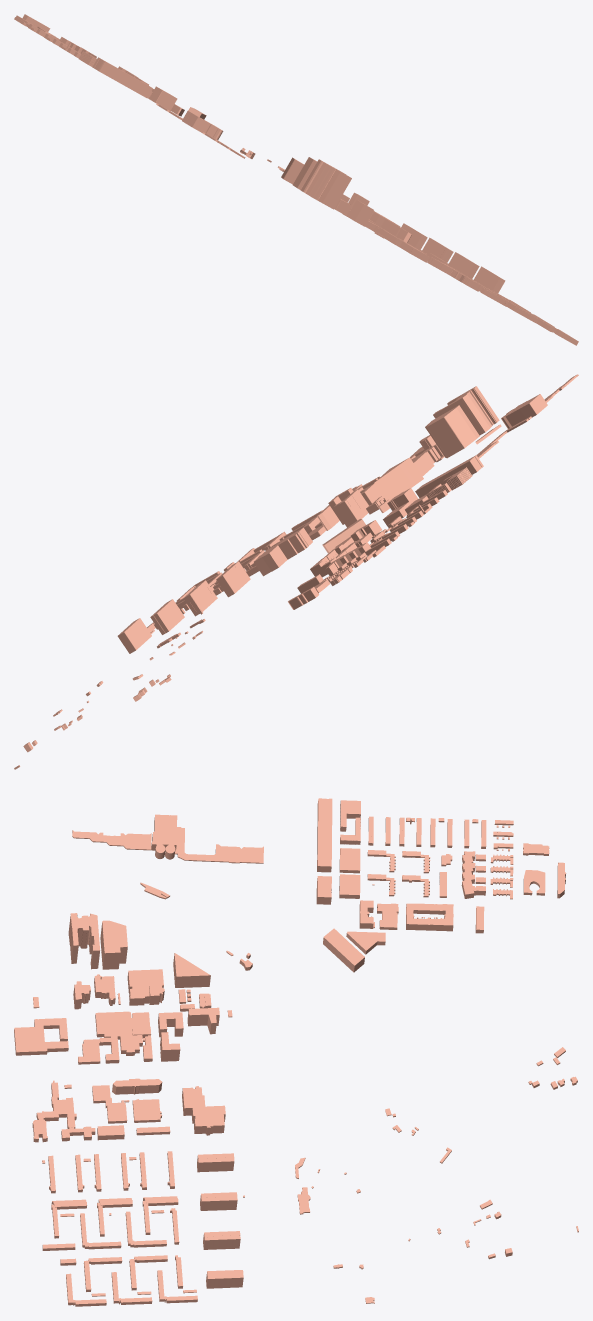
3 renders of one model, top to bottom at view 1: azimuth 30°, elevation 25°; view 2: azimuth 150°, elevation 25°; view 3: azimuth 270°, elevation 25°, orthographic. The views are drawn at different scales.
Bounding box in the file's own units: 1017 × 776 × 1234.
